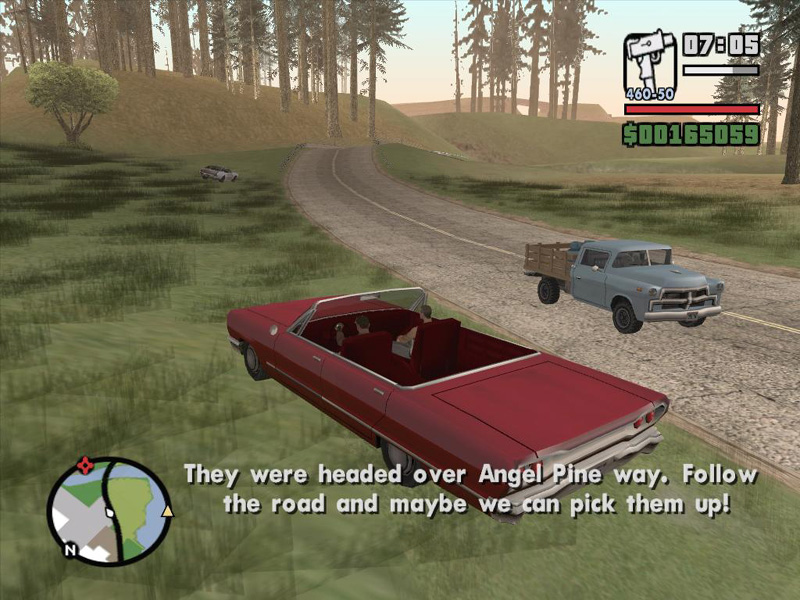car: (223, 292, 675, 519), (523, 228, 726, 342), (199, 163, 238, 185)
